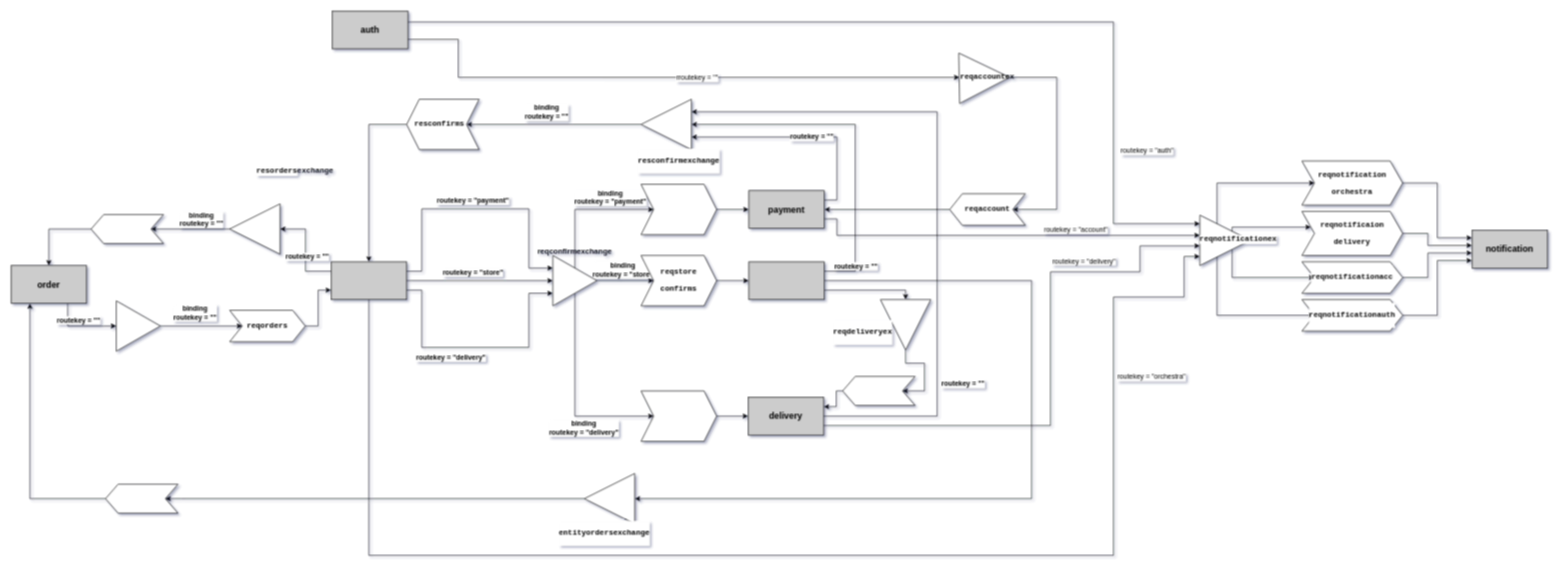
The diagram is 1562 pixels wide and 575 high, and some of its shapes have lost their labels. The shapes that lost their labels are listed below. From the top down, each one's centre as x and y in pixels, then its label:
the point at 126,228: resorders
the point at 678,209: reqpayment confirms
the point at 368,280: orchestra
the point at 786,280: store
the point at 138,325: reqordersexchange
the point at 878,390: reqdelivery
the point at 678,415: reqdelivery confirms
the point at 141,498: entityorders
